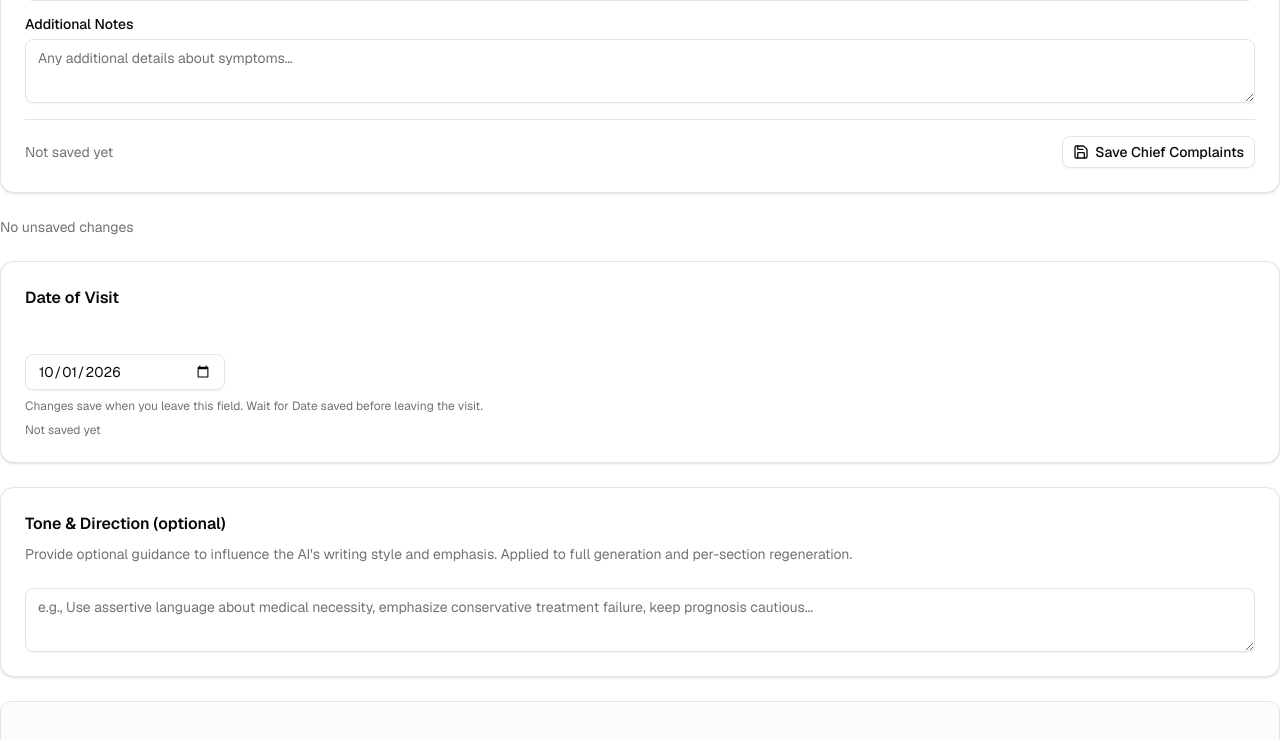
Test case: initial_visit refuses Generate after the date is cleared
(page scrolled)
Clear the date field: (125, 372) [25,354,225,390]
(page scrolled)
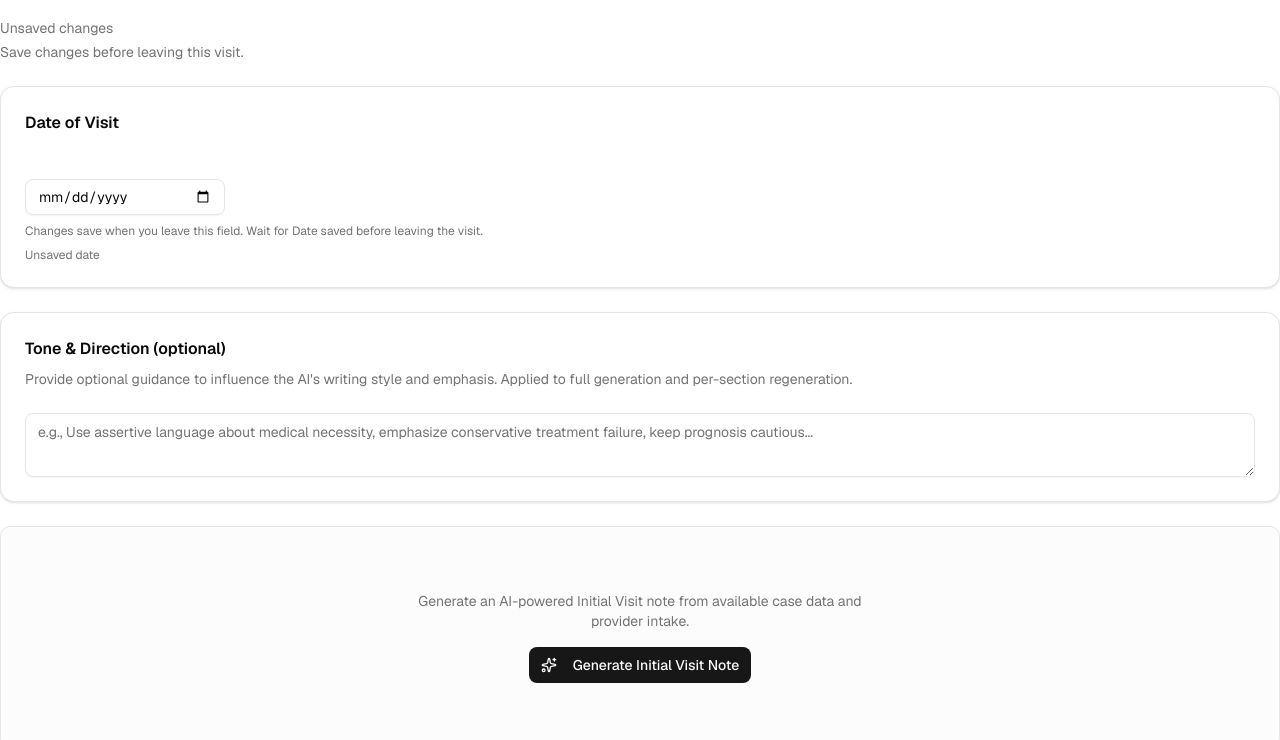
Click the button "Generate Initial Visit Note": (640, 665) [529,647,751,683]
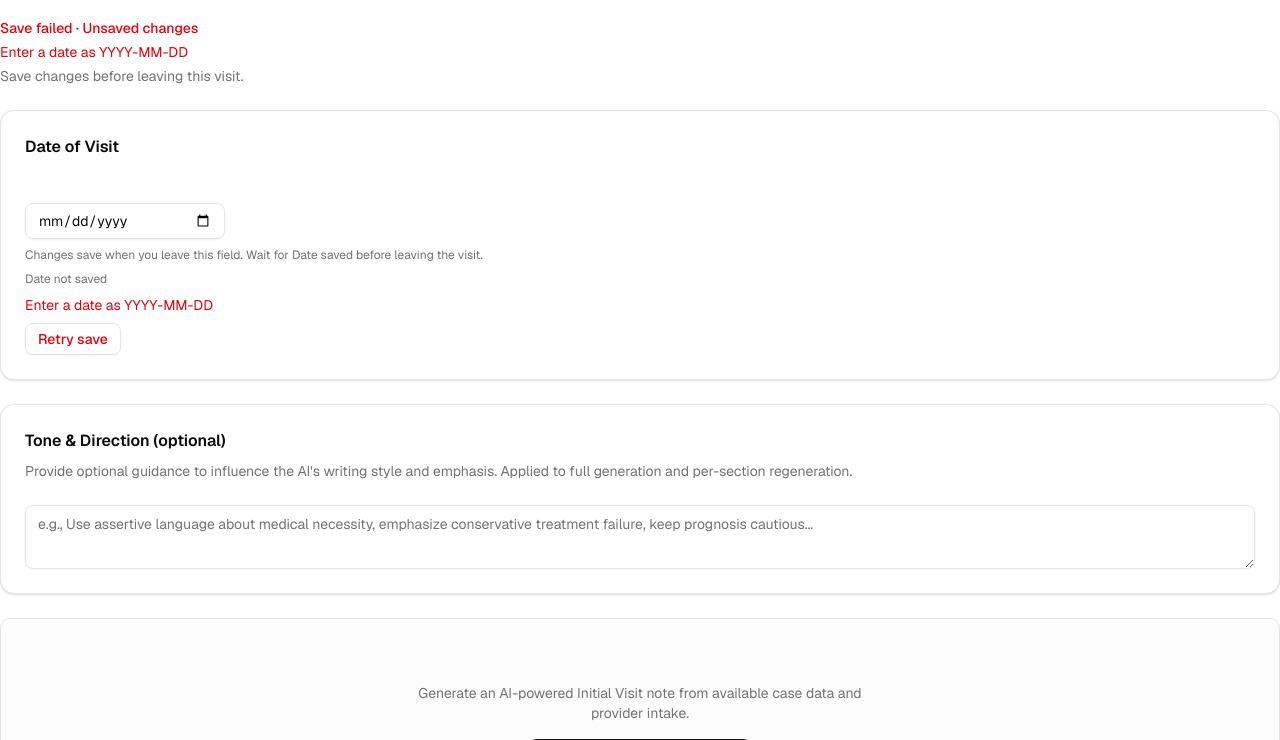
Check: the text "Date not saved" is shown, box [25,271,107,287]
